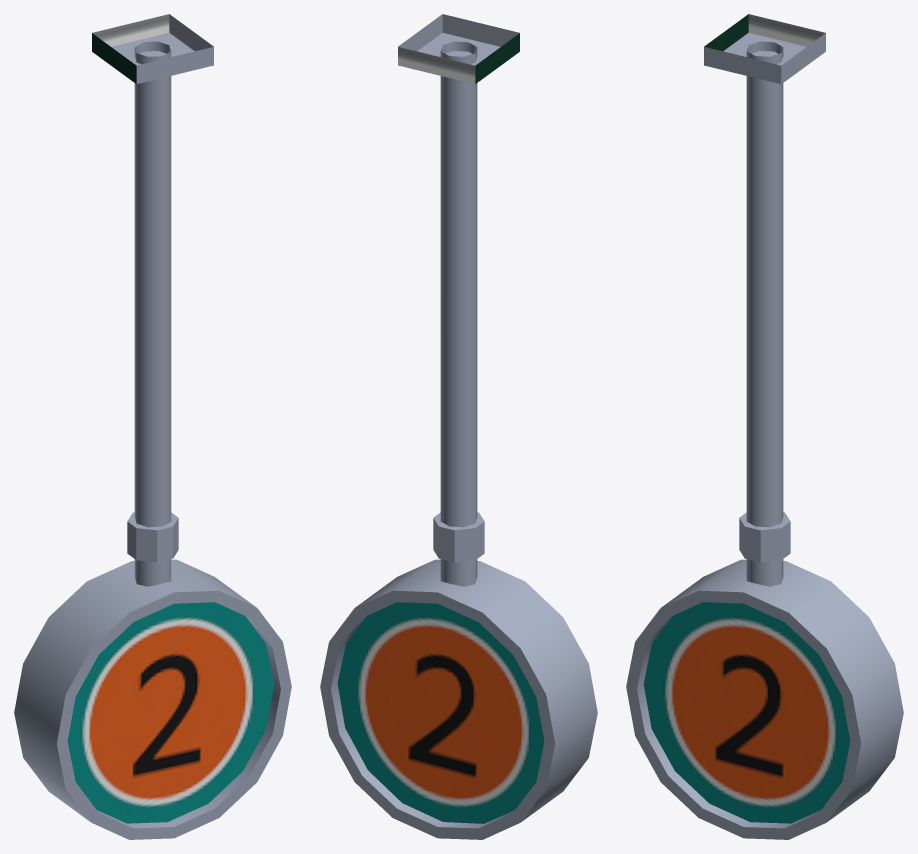
Rendered from PlatformNumberBoard_002.fbx.
3 renders of one model, left to right at view 1: azimuth 30°, elevation 25°; view 2: azimuth 150°, elevation 25°; view 3: azimuth 330°, elevation 25°, orthographic.
Parts seen in each view (by area): view 1: PlatformNumberBoard.002; view 2: PlatformNumberBoard.002; view 3: PlatformNumberBoard.002.
Boxes of the visible parts, <box> form: PlatformNumberBoard.002: <box>14,14,291,839</box>; PlatformNumberBoard.002: <box>320,14,597,839</box>; PlatformNumberBoard.002: <box>626,14,903,839</box>.
Size of the model in its own units: 0.8635 by 2.75 by 0.2846.
